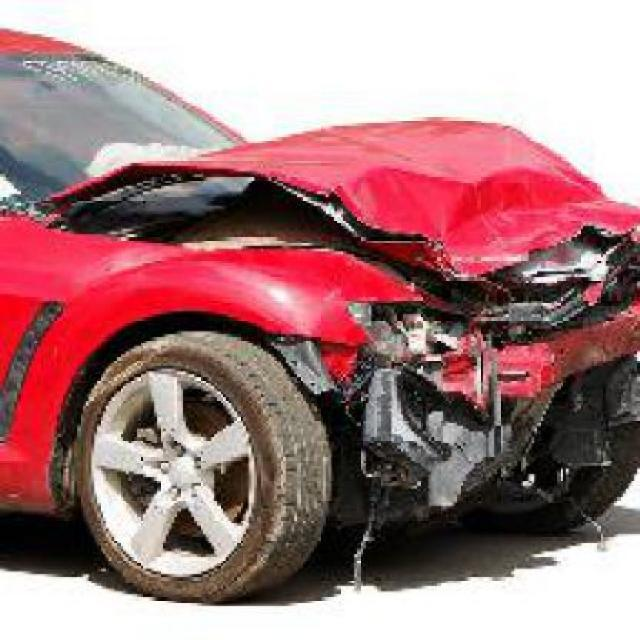damaged-front-bumper: (340, 328, 637, 514)
damaged-trunk: (74, 115, 637, 292)
